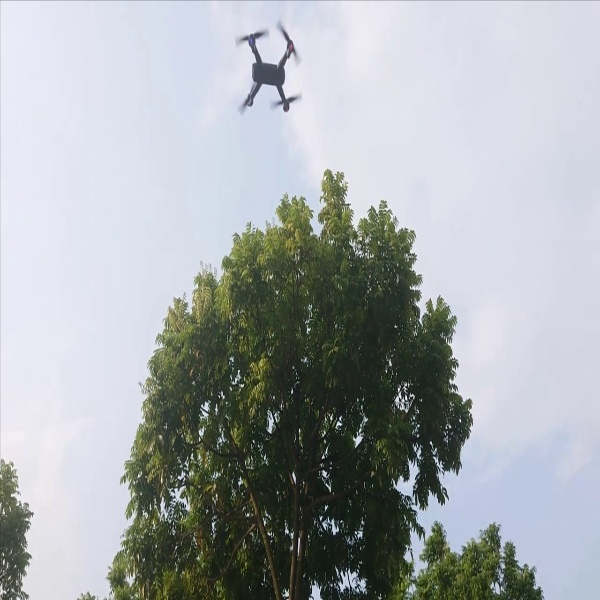drone: (228, 16, 309, 131)
